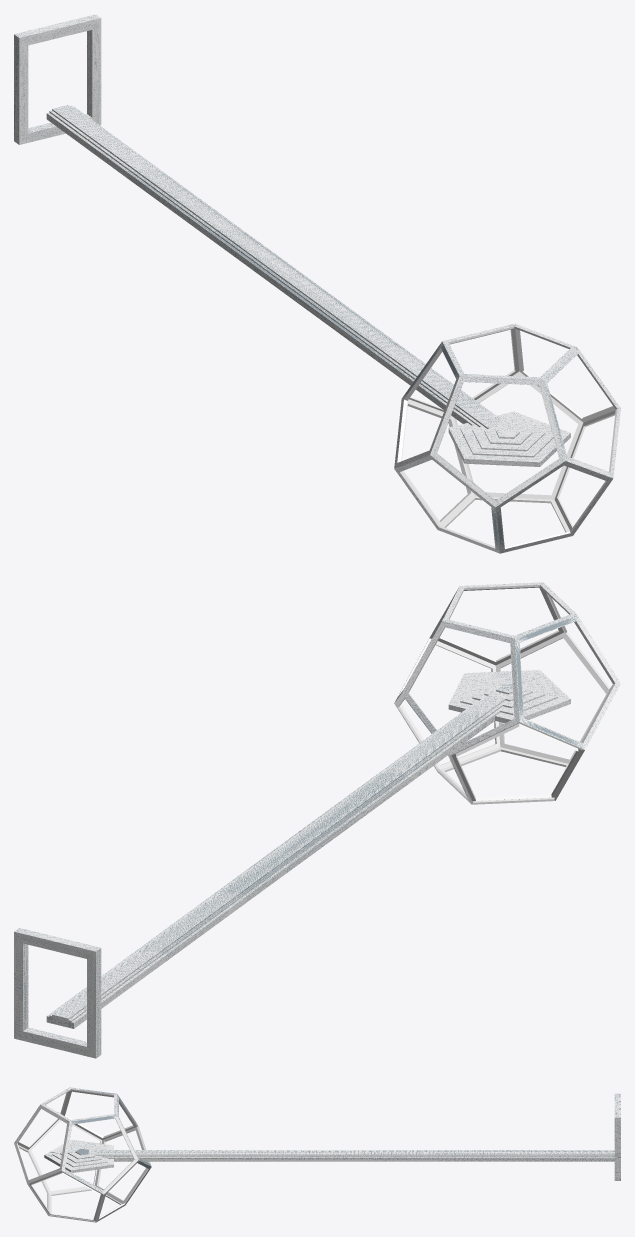
Rendered from 20210430_level2.5_bridge.fbx.
3 views of the same model, one above another, from view 1: azimuth 30°, elevation 25°; view 2: azimuth 150°, elevation 25°; view 3: azimuth 270°, elevation 25° (orthographic). The views are drawn at different scales.
Visible parts, largest first — view 1: Group3, Group4, Group2, Group5; view 2: Group3, Group4, Group2, Group5; view 3: Group3, Group4, Group5, Group2.
Boxes of the visible parts, left/top/right/bottom form: Group3: left=46, top=105, right=504, bottom=428; Group4: left=394, top=323, right=620, bottom=553; Group2: left=14, top=14, right=101, bottom=144; Group5: left=448, top=411, right=570, bottom=466; Group3: left=46, top=695, right=505, bottom=1028; Group4: left=394, top=582, right=620, bottom=804; Group2: left=14, top=928, right=101, bottom=1058; Group5: left=448, top=670, right=570, bottom=722; Group3: left=95, top=1150, right=614, bottom=1161; Group4: left=14, top=1087, right=151, bottom=1222; Group5: left=44, top=1139, right=113, bottom=1172; Group2: left=614, top=1093, right=620, bottom=1180.
Bounding box in the file's own units: 20.94 × 17.82 × 96.98.
